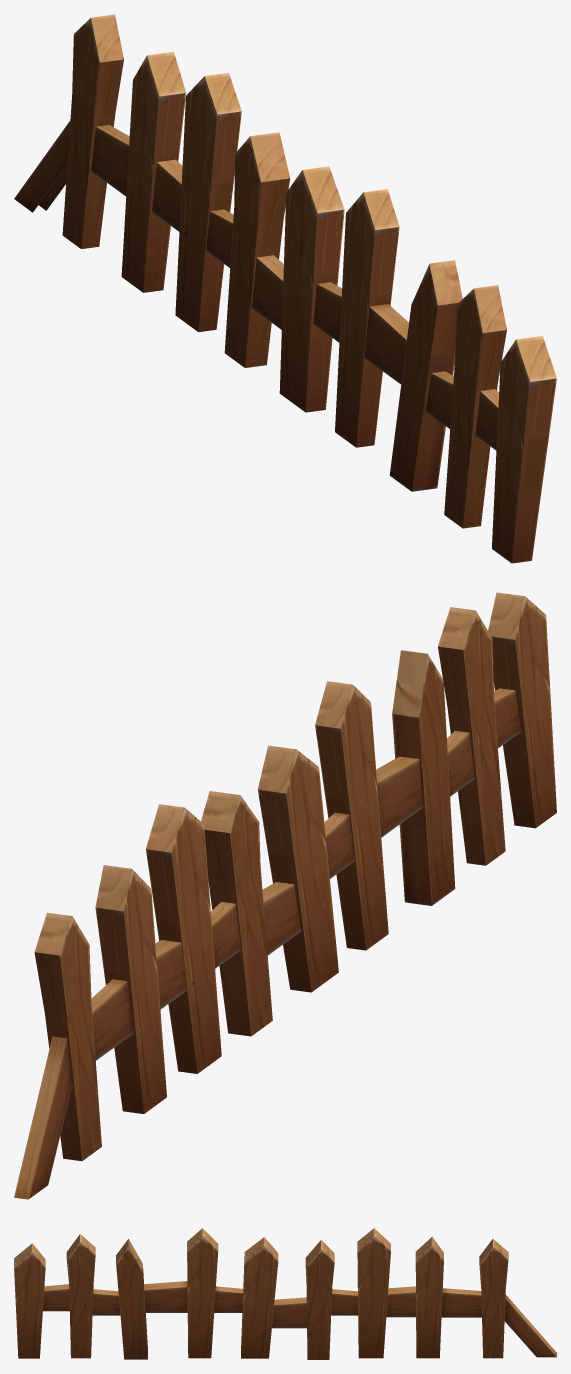
File: caodi_liba_01.fbx
3 views of the same model, one above another, from view 1: azimuth 30°, elevation 25°; view 2: azimuth 150°, elevation 25°; view 3: azimuth 270°, elevation 25° (orthographic). The views are drawn at different scales.
Parts seen in each view (by area): view 1: caodi_liba_01; view 2: caodi_liba_01; view 3: caodi_liba_01.
Part boxes in pixels (x1,y1,x2,y2): caodi_liba_01: (14,14,556,563); caodi_liba_01: (14,592,556,1199); caodi_liba_01: (14,1228,556,1359).
Size of the model in its own units: 0.7666 by 3.57 by 13.34.
